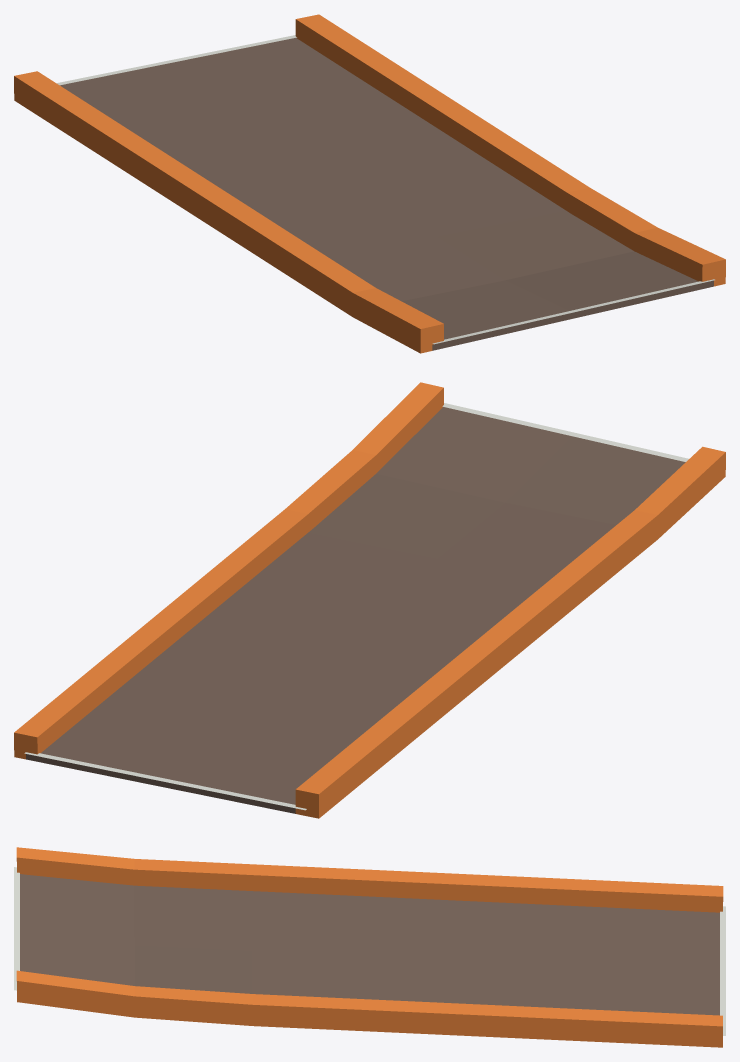
The model's file is SM_MP_Film_A_3_3.fbx.
The picture shows the model from 3 angles, top to bottom: view 1: azimuth 30°, elevation 25°; view 2: azimuth 150°, elevation 25°; view 3: azimuth 270°, elevation 25°; orthographic projection. The views are drawn at different scales.
Visible parts, largest first — view 1: SM_MP_Film_A_3_3; view 2: SM_MP_Film_A_3_3; view 3: SM_MP_Film_A_3_3.
Boxes of the visible parts, x1,y1,x2,y2 form: SM_MP_Film_A_3_3: (14, 14, 725, 353); SM_MP_Film_A_3_3: (14, 382, 725, 818); SM_MP_Film_A_3_3: (14, 847, 725, 1047).
Size of what is drawn, in the model's own units: 260 by 605 by 66.74.
